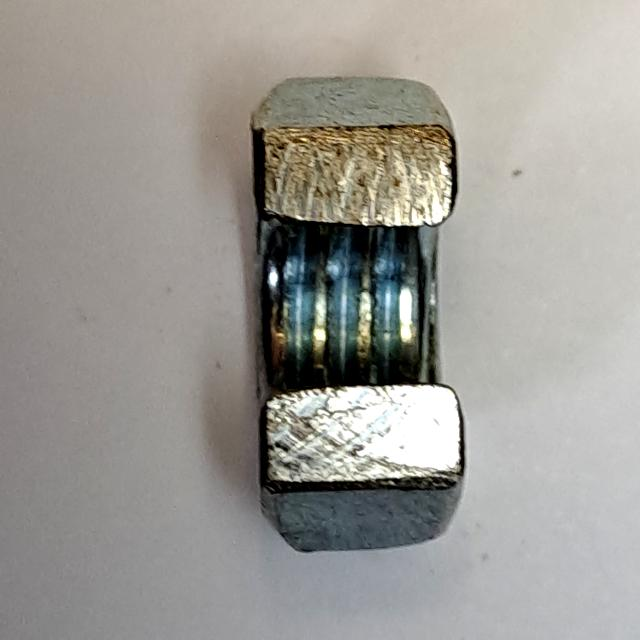Side-Fracture: (224, 66, 477, 572)
